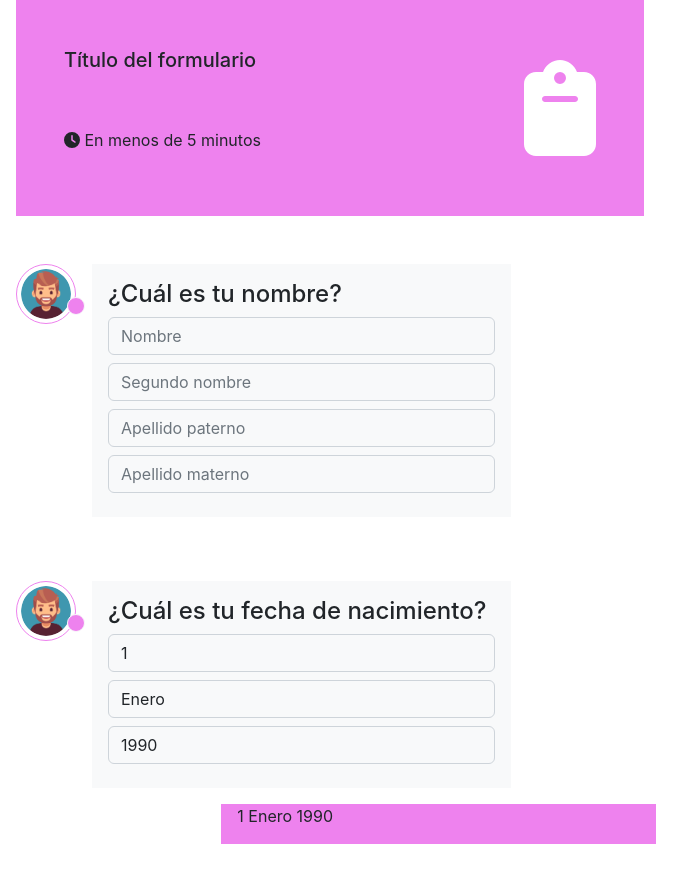
Test: Name section should › Ask for required fields
Click the field with placeholder "Nombre".
click(301, 336)  # box [108,317,495,355]
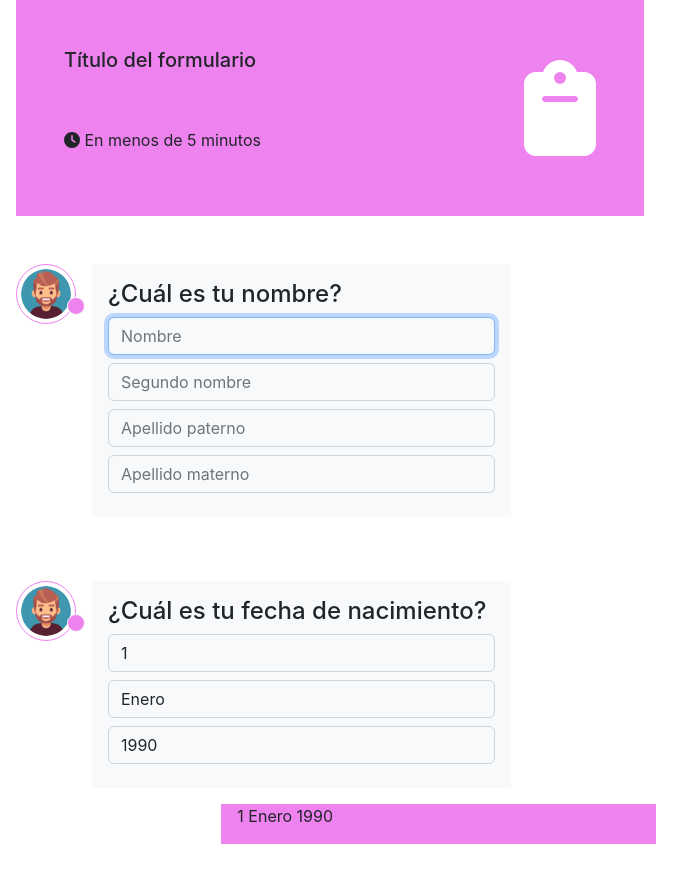
Type "Pedro" into the field with placeholder "Segundo nombre".
click(301, 382); type("Pedro")  # box [108,363,495,401]
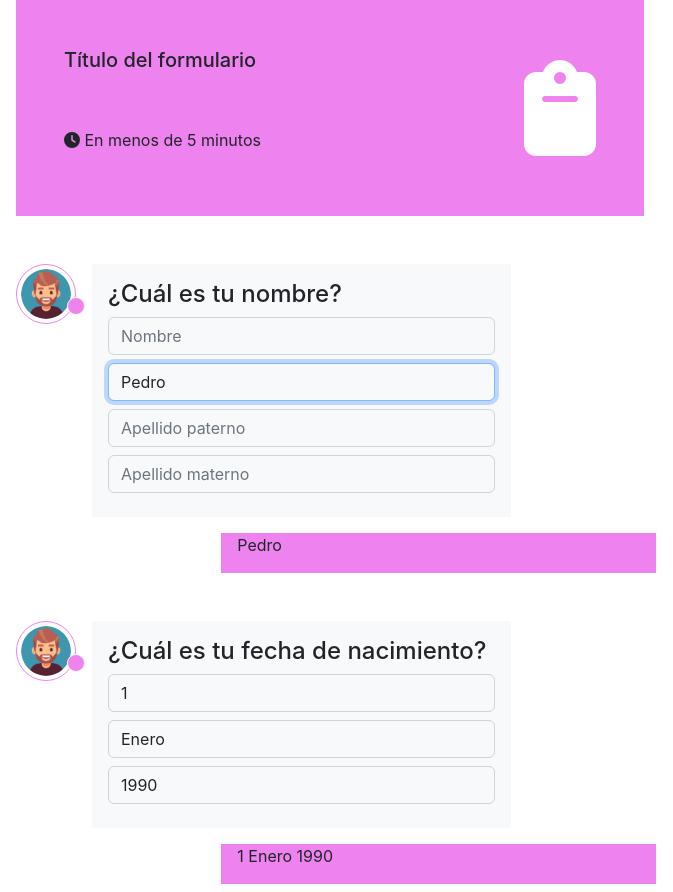
Click the field with placeholder "Apellido paterno".
click(301, 428)  # box [108,409,495,447]
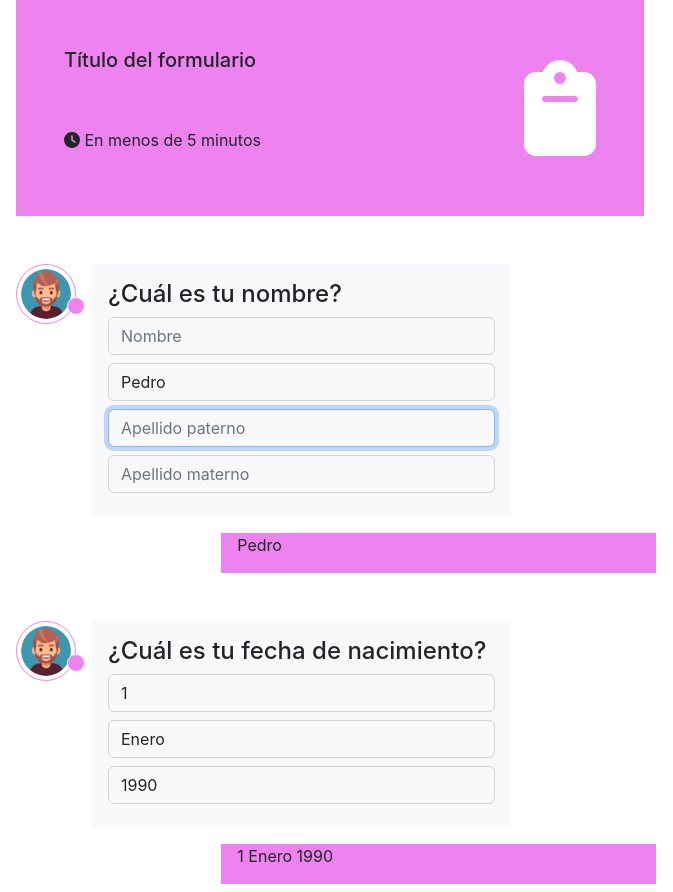
Type "Ortiz" into the field with placeholder "Apellido materno".
click(301, 474); type("Ortiz")  # box [108,455,495,493]
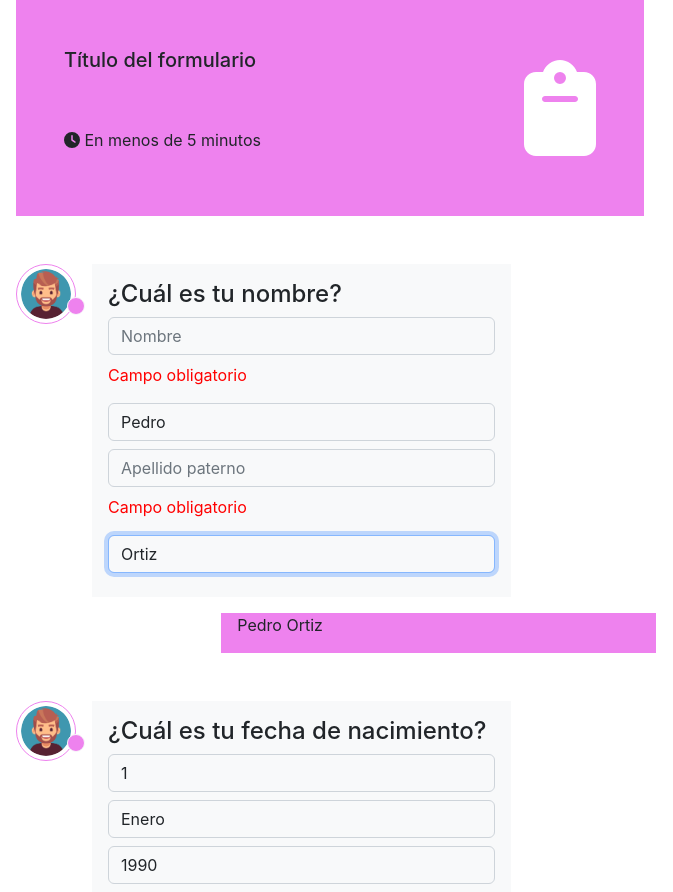
Check: the text "Campo obligatorio" is shown 2 times, box [108,365,247,385]; [108,497,247,517]
